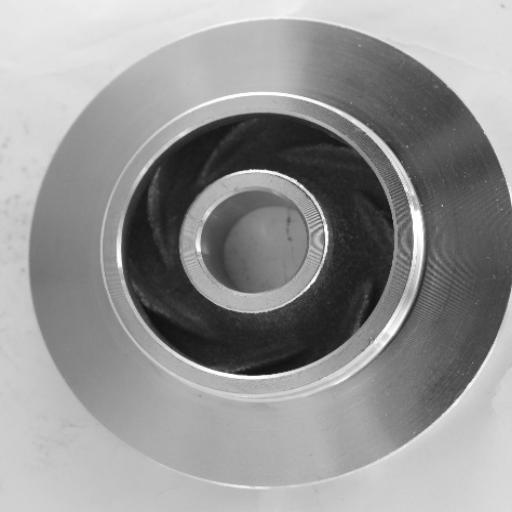polished_casting: (29, 18, 512, 491)
